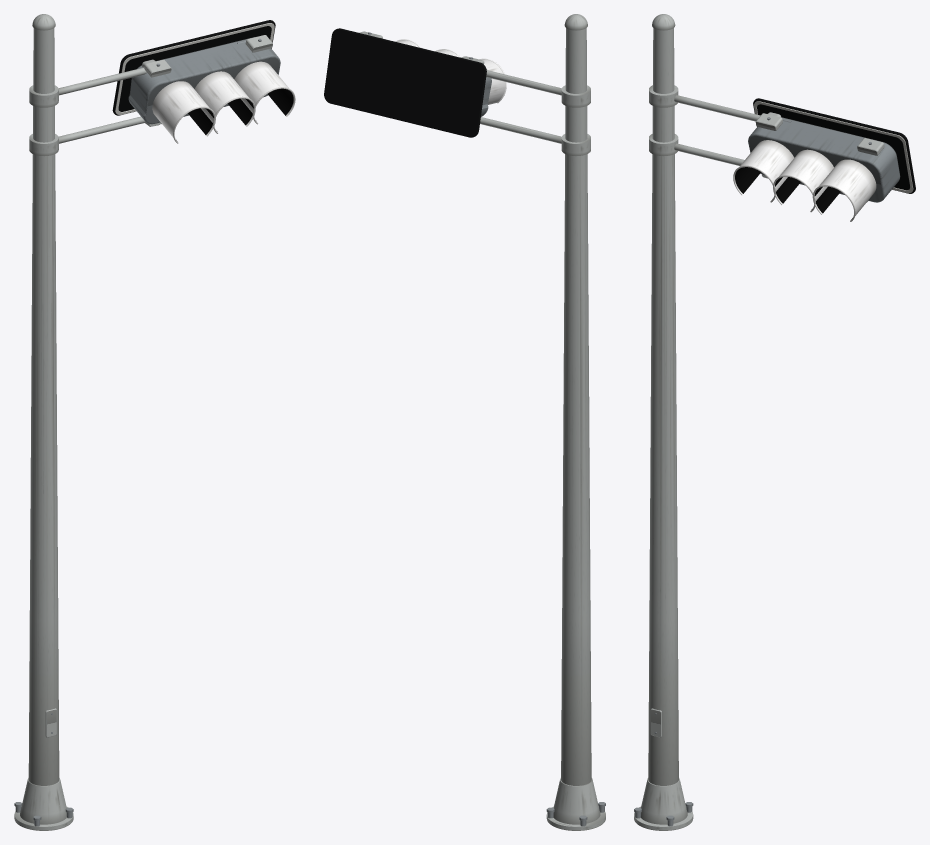
3 views of the same model, side by side, from view 1: azimuth 30°, elevation 25°; view 2: azimuth 150°, elevation 25°; view 3: azimuth 330°, elevation 25° (orthographic).
Parts seen in each view (by area): view 1: jp-veh-h250-side, opt_backplate_on; view 2: jp-veh-h250-side, opt_backplate_on; view 3: jp-veh-h250-side, opt_backplate_on.
Part boxes in pixels (<box>): jp-veh-h250-side: <box>14,14,295,830</box>; opt_backplate_on: <box>112,20,275,115</box>; jp-veh-h250-side: <box>359,14,605,830</box>; opt_backplate_on: <box>324,28,486,137</box>; jp-veh-h250-side: <box>634,14,900,830</box>; opt_backplate_on: <box>753,98,915,193</box>.
Bounding box in the file's own units: 2.05 × 5.98 × 0.6642.
16 materials, 3 textured.
